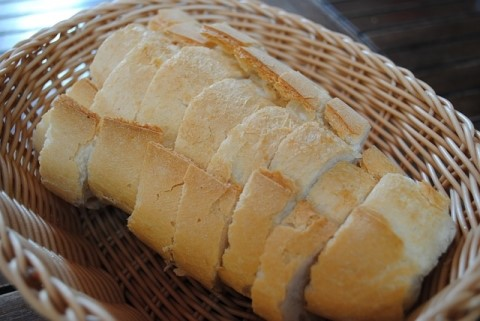slice of bread: (38, 27, 448, 307)
